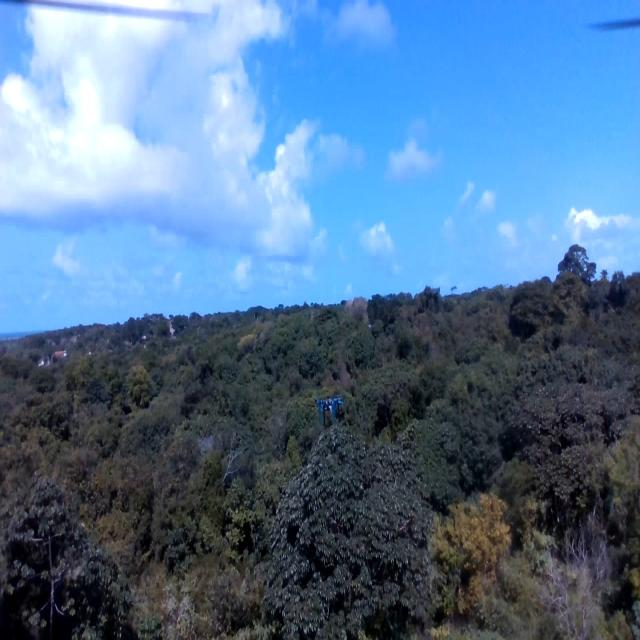-uav-: (312, 387, 350, 434)
